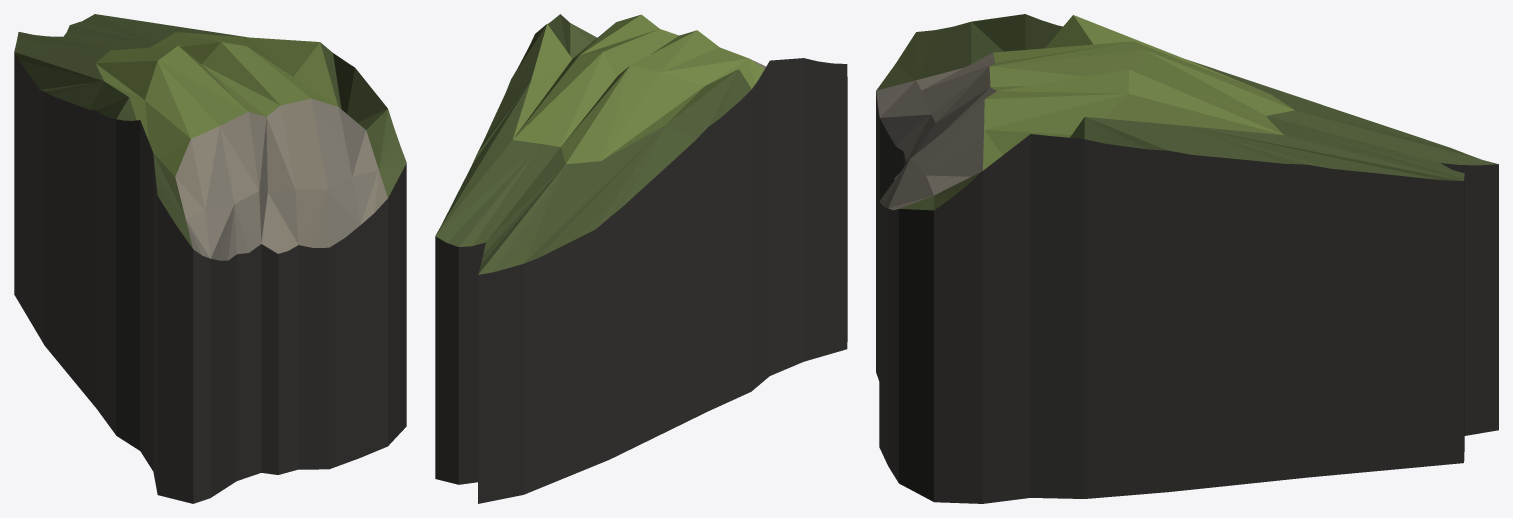
Rendered from cliff_sections_prototype.glb.
The picture shows the model from 3 angles, left to right: view 1: azimuth 30°, elevation 25°; view 2: azimuth 150°, elevation 25°; view 3: azimuth 270°, elevation 25°; orthographic projection. The views are drawn at different scales.
Visible parts, largest first — view 1: Front columns study; view 2: Front columns study; view 3: Front columns study.
Part boxes in pixels (bbox=[...]): Front columns study: bbox=[14, 14, 406, 503]; Front columns study: bbox=[435, 14, 847, 503]; Front columns study: bbox=[876, 14, 1498, 503].
Size of the model in its own units: 55.57 by 70 by 104.
